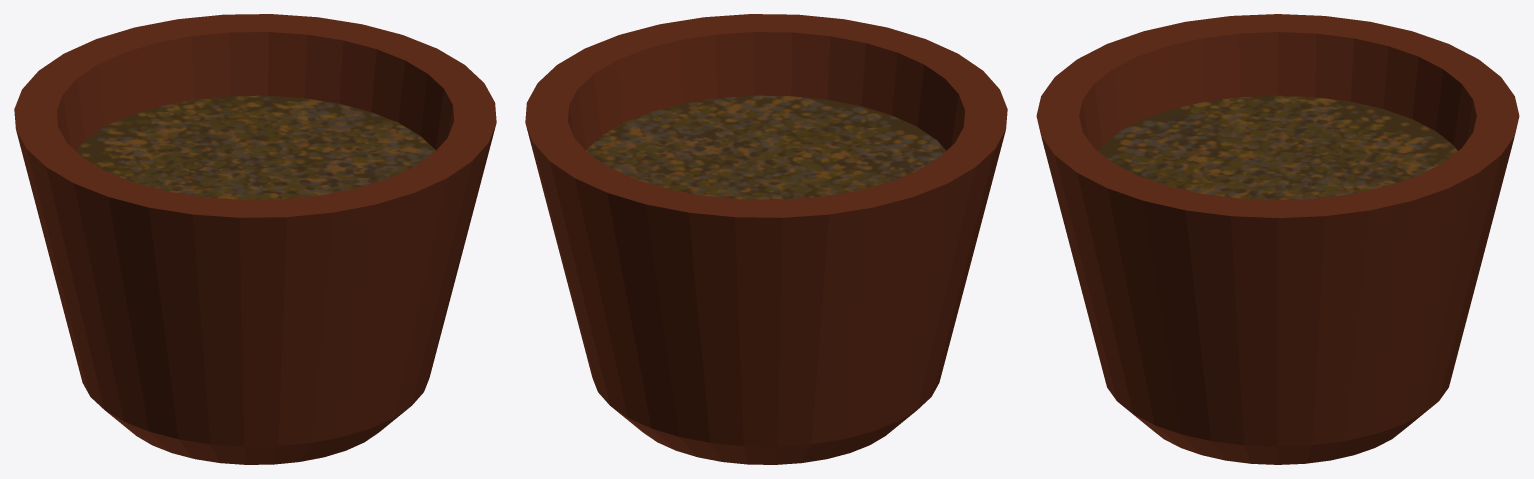
The model's file is Cup.fbx.
The picture shows the model from 3 angles, left to right: view 1: azimuth 30°, elevation 25°; view 2: azimuth 150°, elevation 25°; view 3: azimuth 270°, elevation 25°; orthographic projection.
Visible parts, largest first — view 1: 円柱; view 2: 円柱; view 3: 円柱.
Part boxes in pixels (x1=…): 円柱: x1=14, y1=14, x2=496, y2=464; 円柱: x1=525, y1=14, x2=1007, y2=464; 円柱: x1=1036, y1=14, x2=1519, y2=464.
Size of the model in its own units: 30.56 by 20.31 by 30.56.
